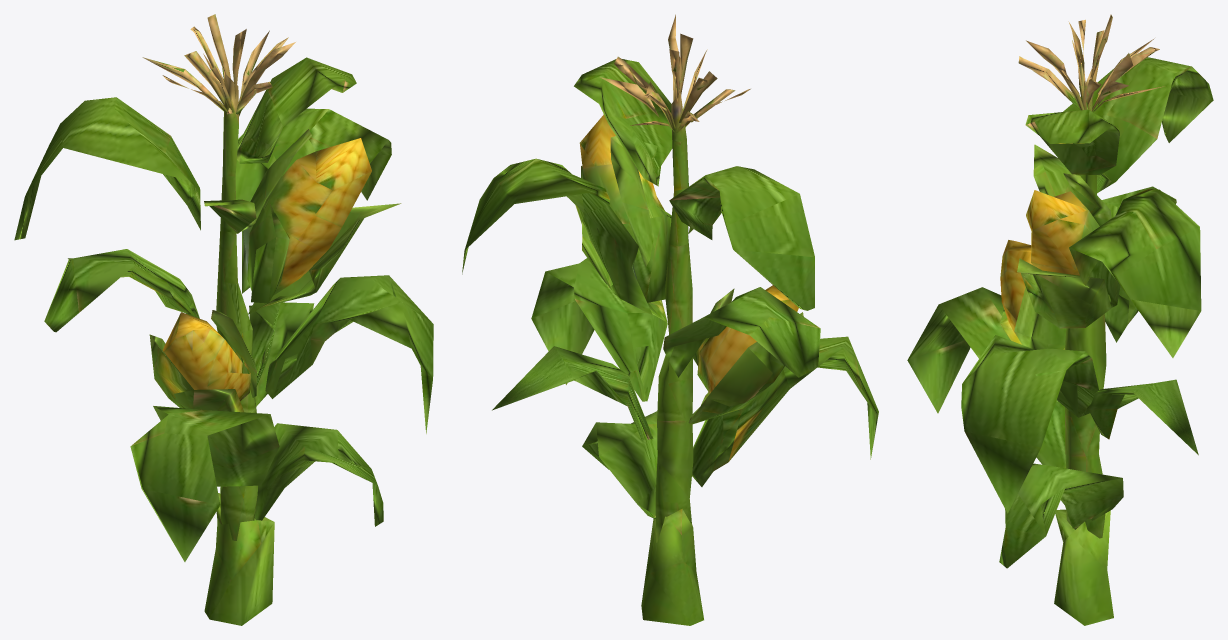
Rendered from crop_corn.glb.
3 renders of one model, left to right at view 1: azimuth 30°, elevation 25°; view 2: azimuth 150°, elevation 25°; view 3: azimuth 270°, elevation 25°, orthographic. The views are drawn at different scales.
Size of the model in its own units: 0.5996 by 0.9376 by 0.4429.
Materials: 1 (1 with a texture image).
